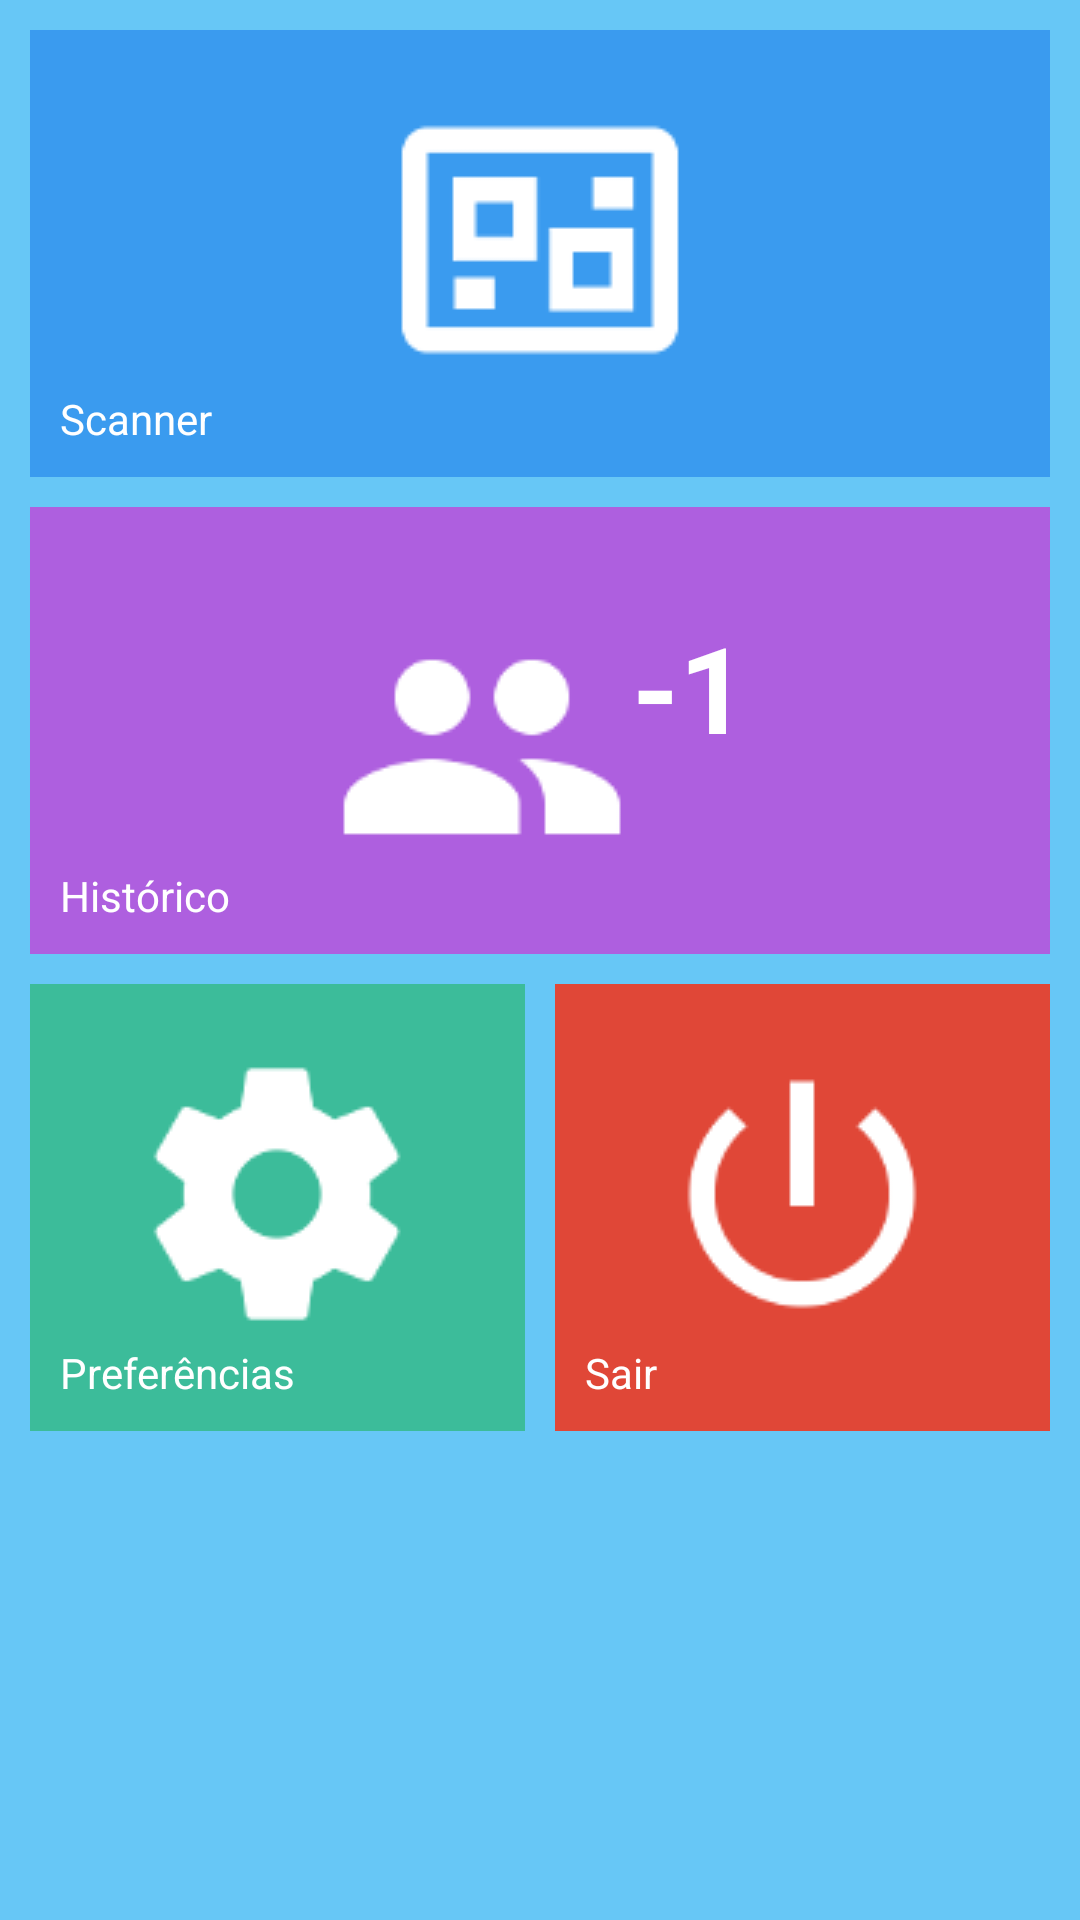

Screen size 1080w x 1920h. Icon name, then its center in pixels as [x,y]:
people: [482,747]
power: [802,1194]
qrcode: [540,240]
